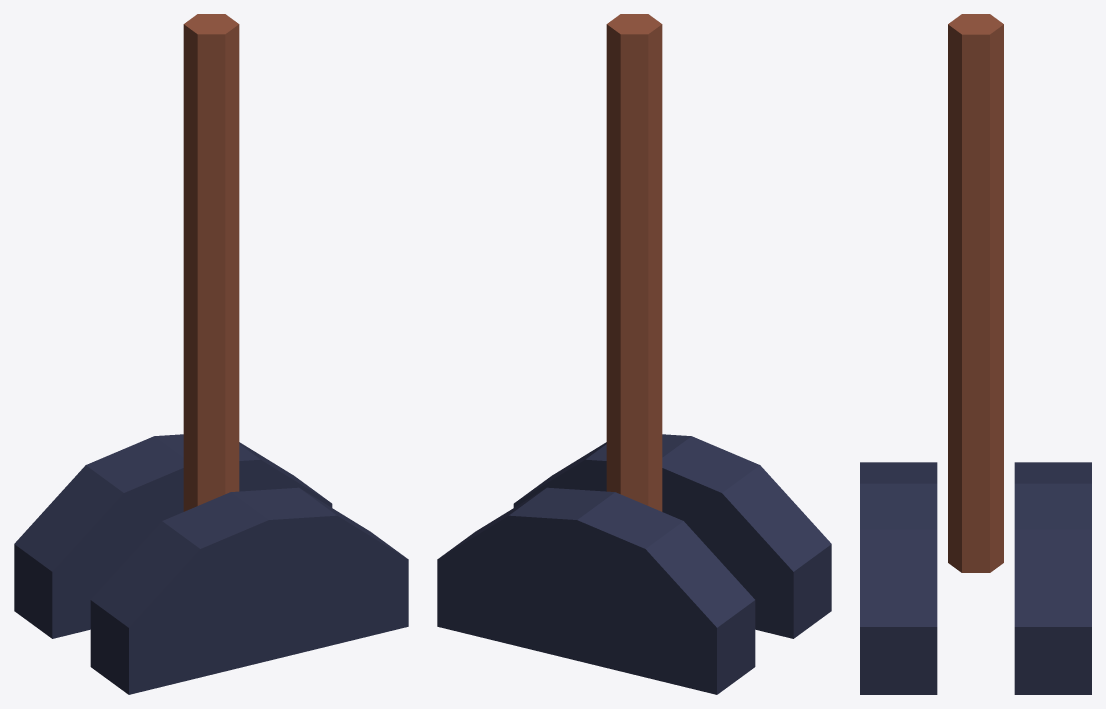
The model's file is lever.fbx.
3 renders of one model, left to right at view 1: azimuth 30°, elevation 25°; view 2: azimuth 150°, elevation 25°; view 3: azimuth 270°, elevation 25°, orthographic.
Parts seen in each view (by area): view 1: Base, Cylinder; view 2: Base, Cylinder; view 3: Base, Cylinder.
Boxes of the visible parts, x1,y1,x2,y2 form: Base: (14,434,408,694); Cylinder: (183,14,239,511); Base: (437,434,831,694); Cylinder: (606,14,662,511); Base: (860,462,1091,694); Cylinder: (948,14,1003,572).
Bounding box in the file's own units: 141 × 286 × 100.
